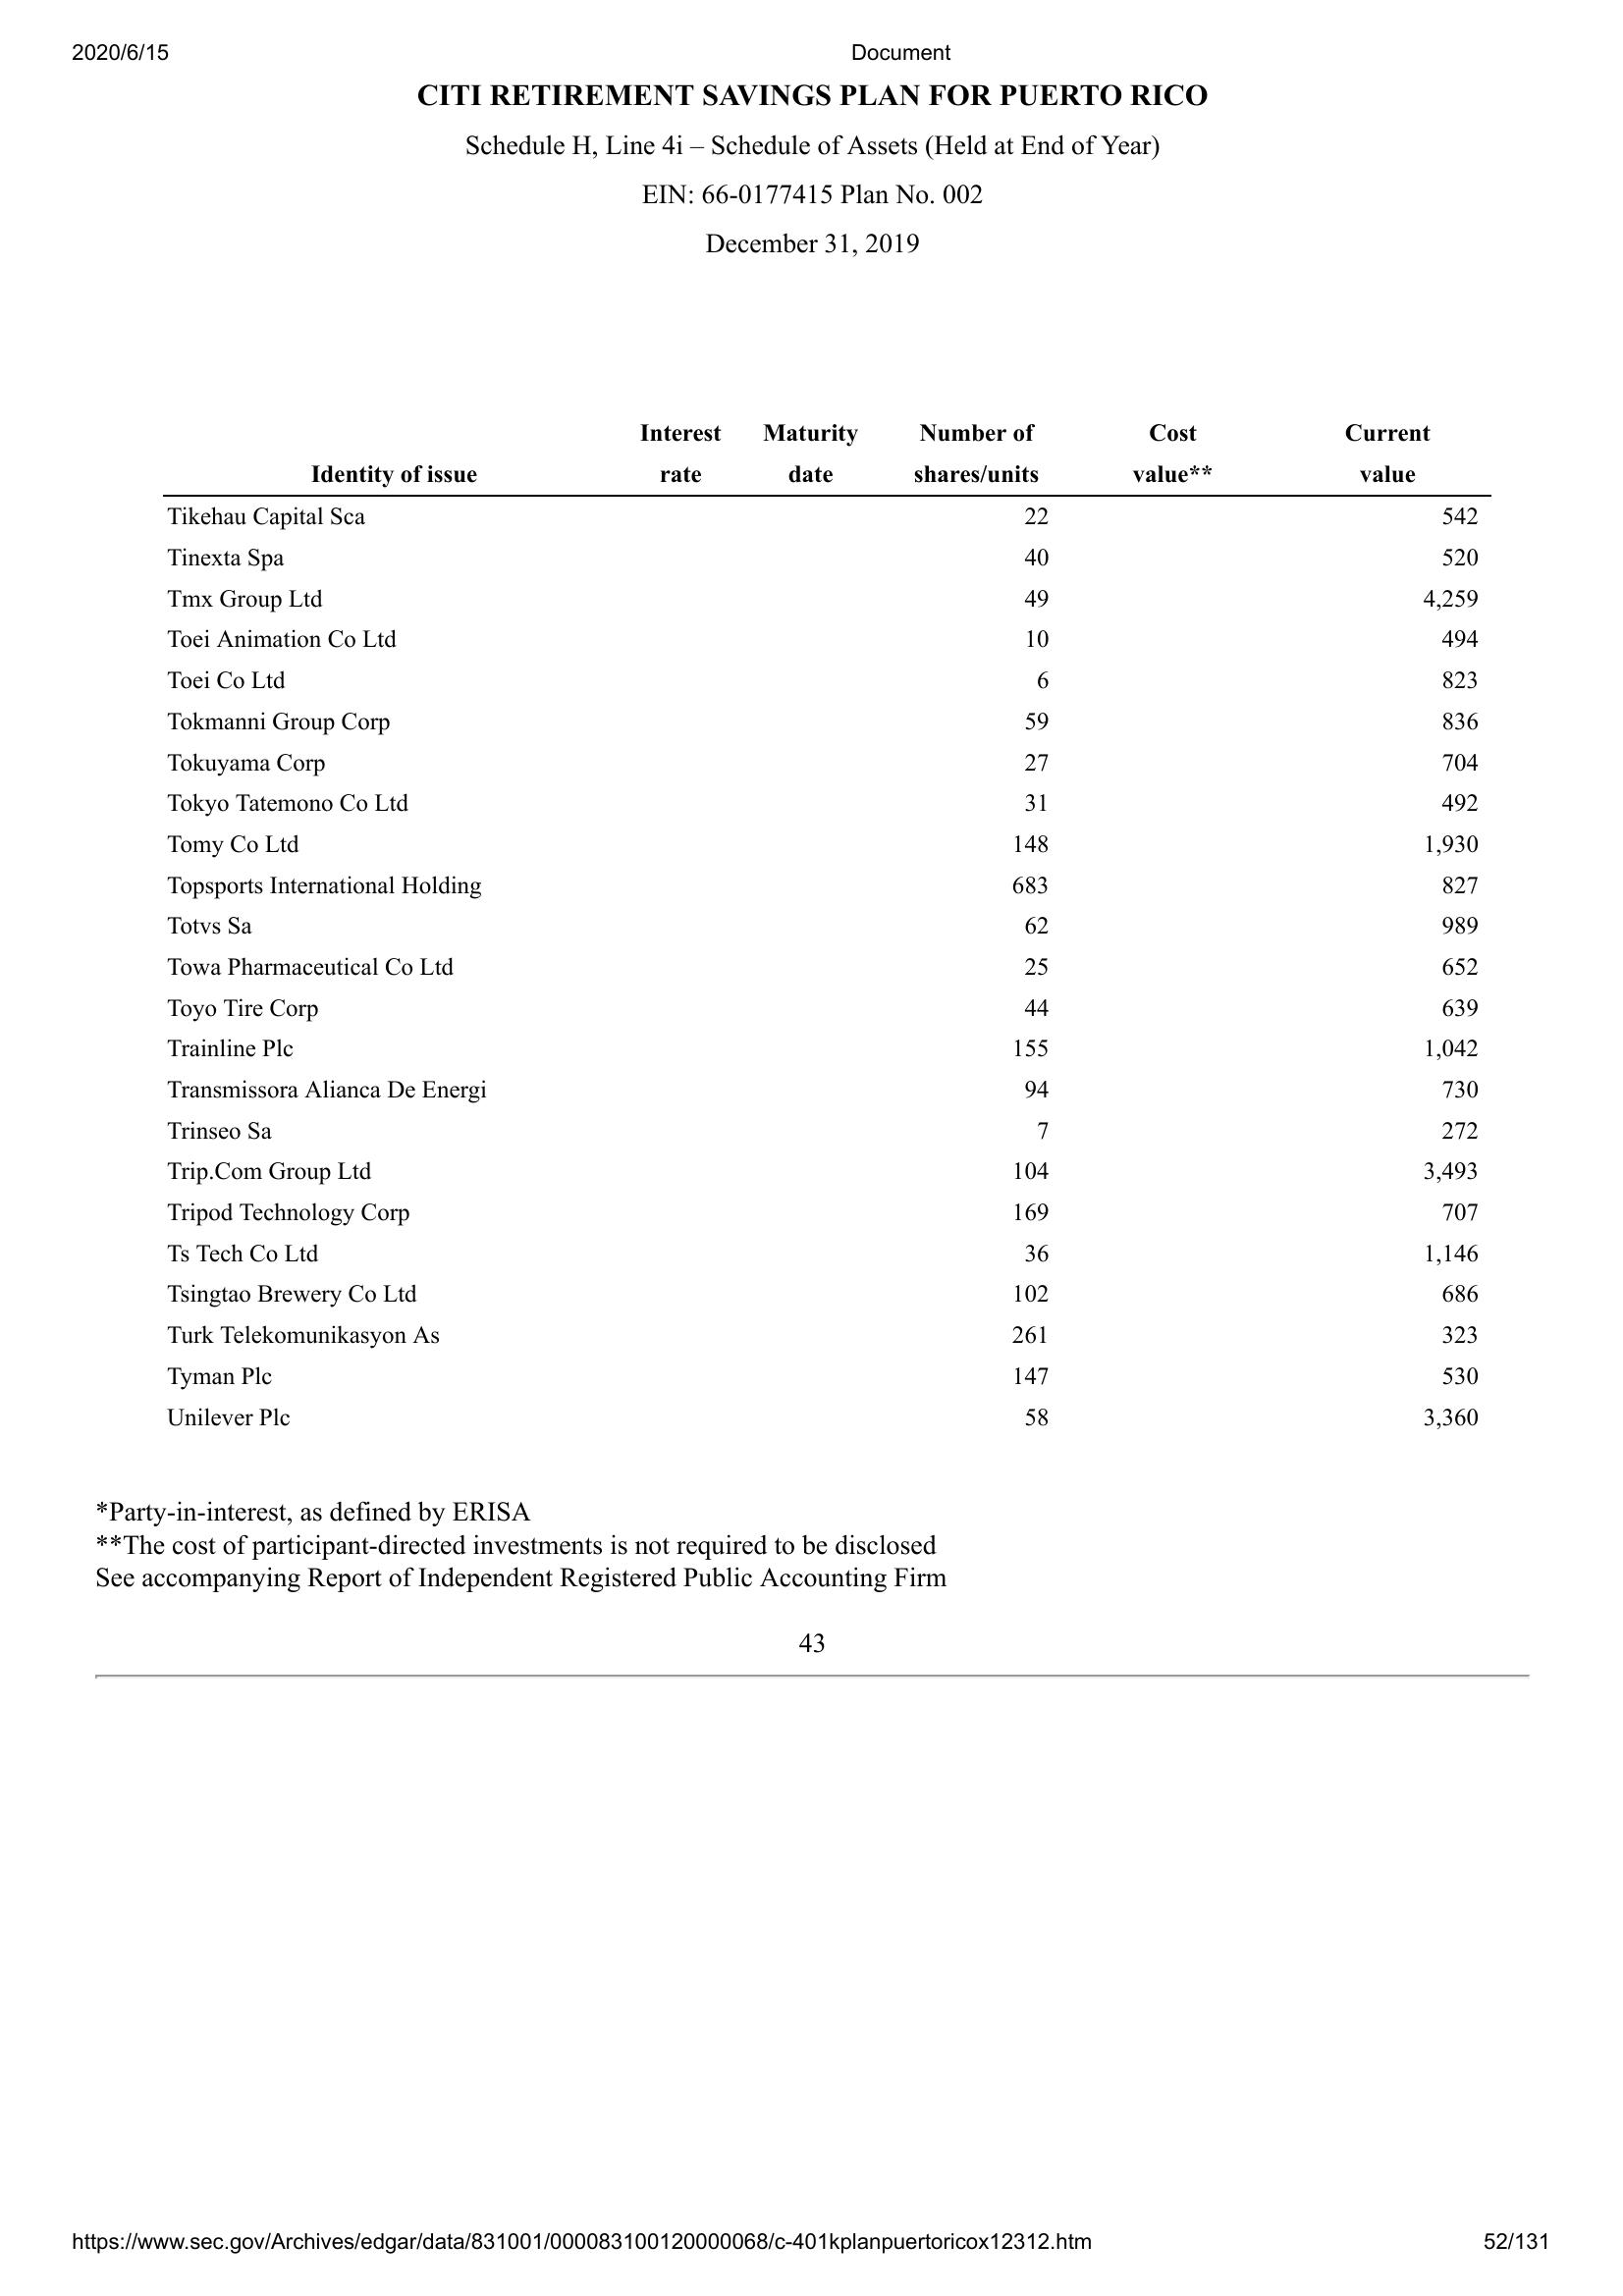table: (163, 421, 1490, 1439)
